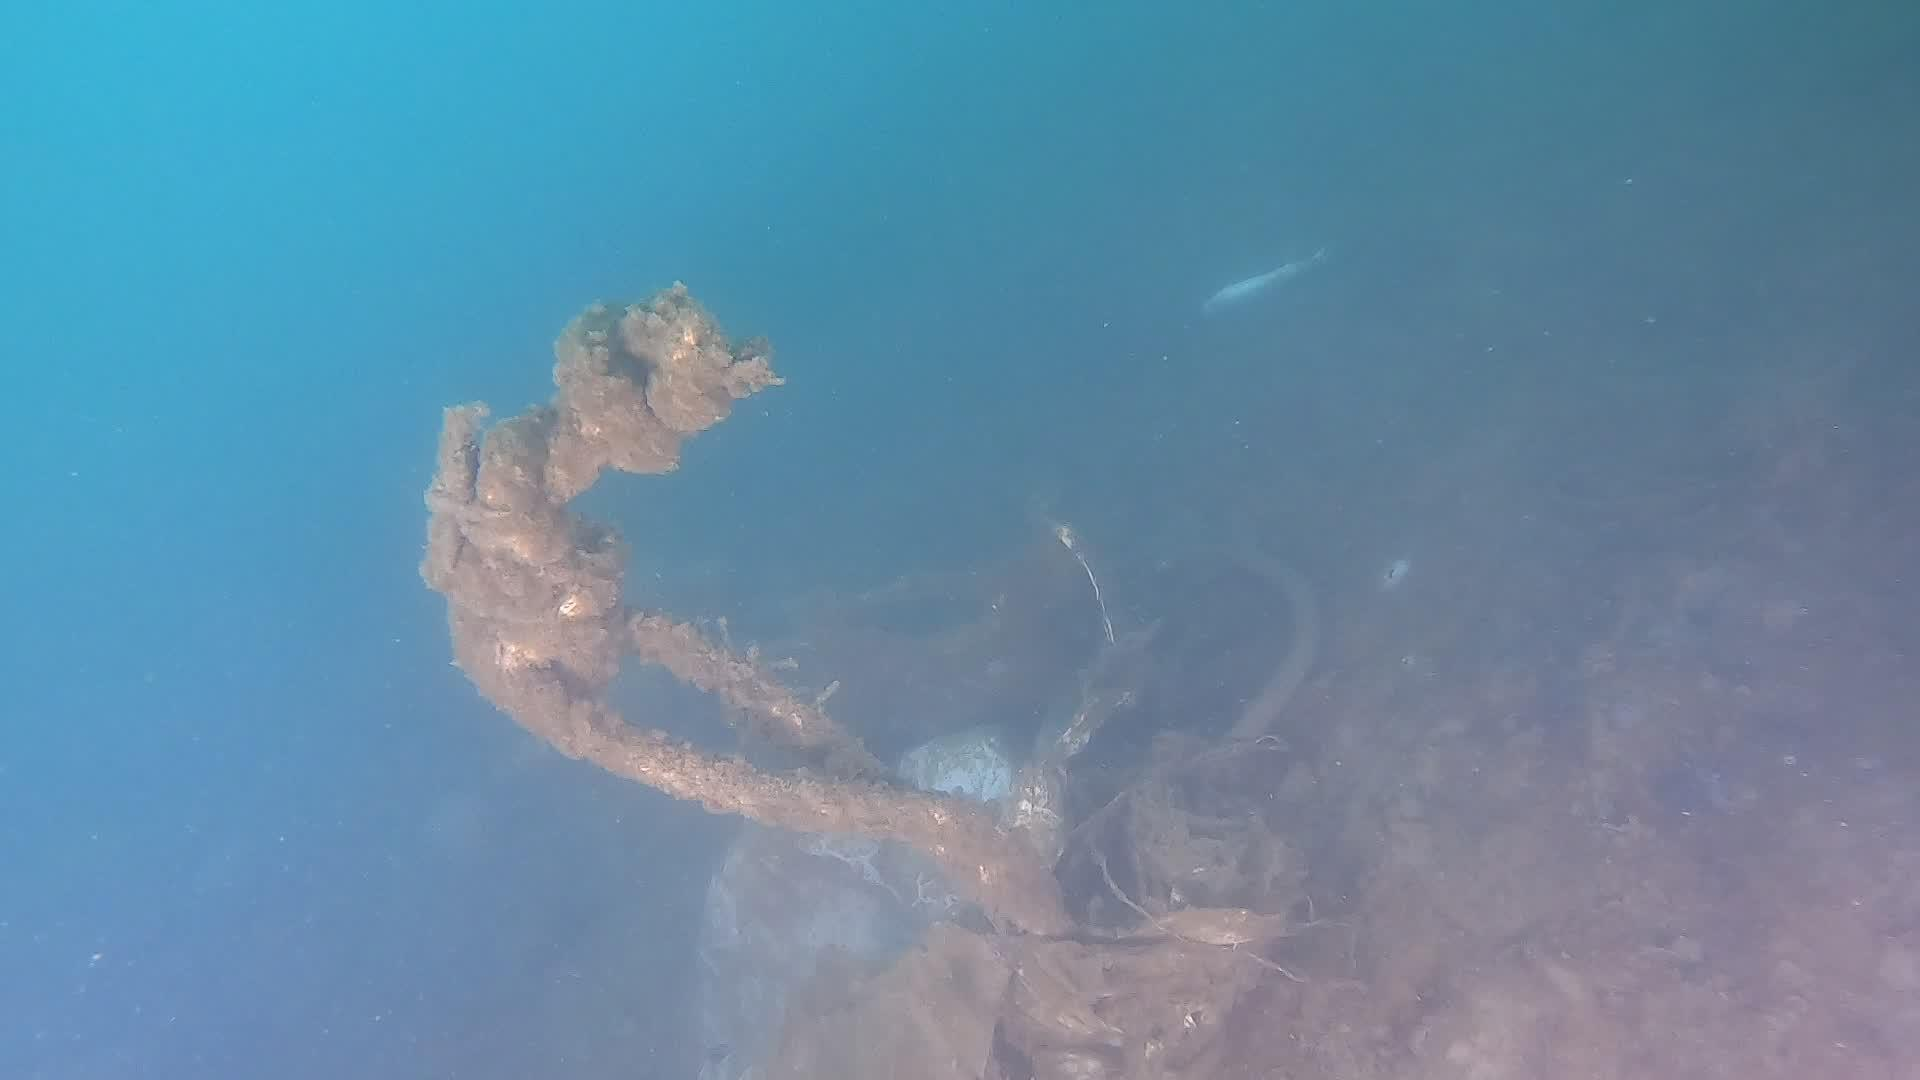bundle of ropes: (411, 273, 1162, 943)
rope: (1222, 538, 1317, 735)
